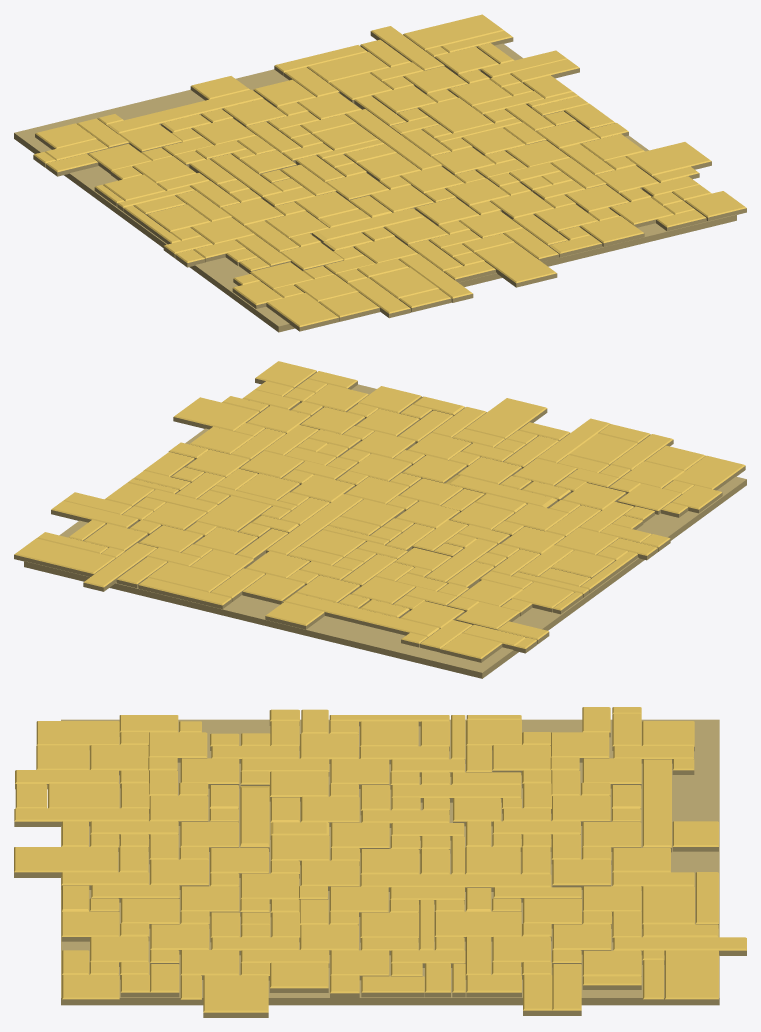
Rendered from floor_square.fbx.
3 renders of one model, top to bottom at view 1: azimuth 30°, elevation 25°; view 2: azimuth 150°, elevation 25°; view 3: azimuth 270°, elevation 25°, orthographic. The views are drawn at different scales.
Parts seen in each view (by area): view 1: sol_tile; view 2: sol_tile; view 3: sol_tile.
Part boxes in pixels (x1=…): sol_tile: x1=14, y1=14, x2=746, y2=332; sol_tile: x1=14, y1=361, x2=746, y2=678; sol_tile: x1=14, y1=707, x2=746, y2=1017.
Bounding box in the file's own units: 173 × 175 × 3.53.
